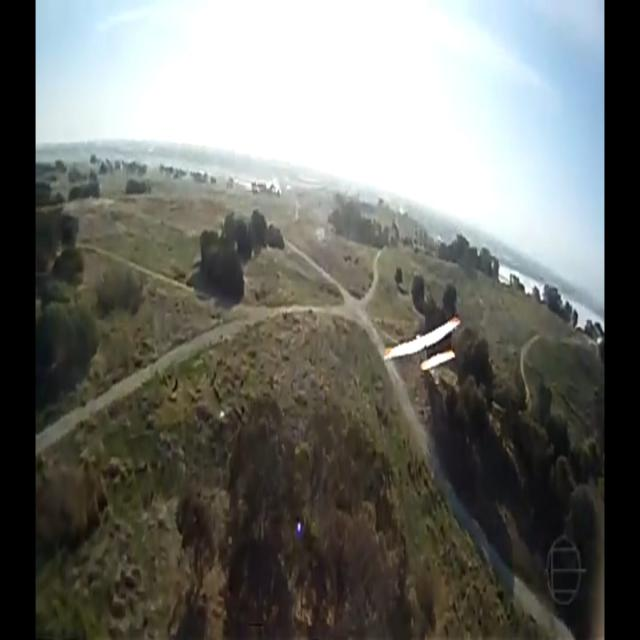iha: (416, 316, 429, 370)
